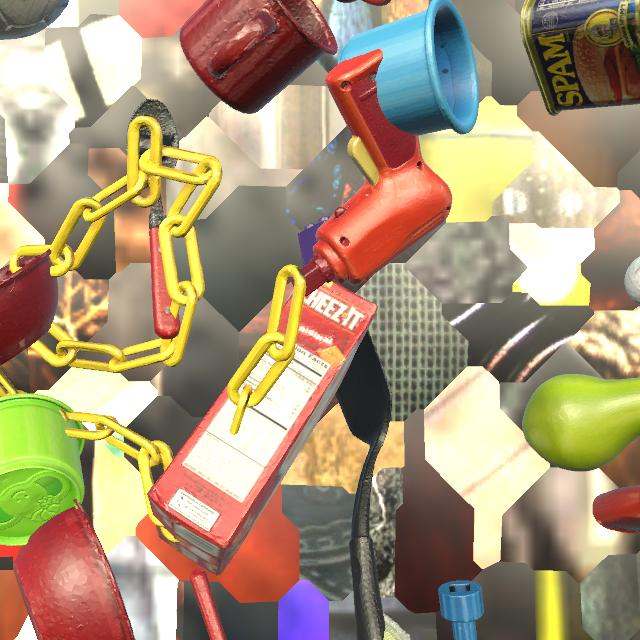ycb_003_cracker_box: (147, 281, 378, 576)
ycb_010_potted_meat_can: (520, 0, 640, 116)
ycb_016_pear: (522, 374, 640, 472)
